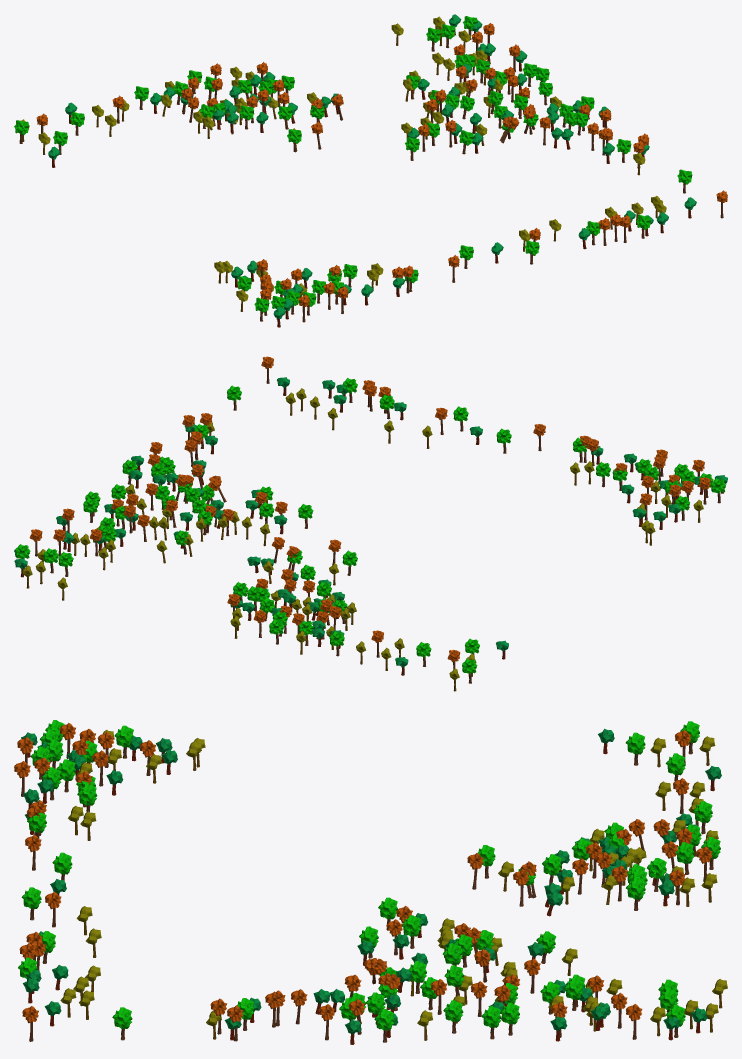
Rendered from TREES.glb.
3 views of the same model, one above another, from view 1: azimuth 30°, elevation 25°; view 2: azimuth 150°, elevation 25°; view 3: azimuth 270°, elevation 25° (orthographic). The views are drawn at different scales.
Bounding box in the file's own units: 442 × 42.7 × 444.
